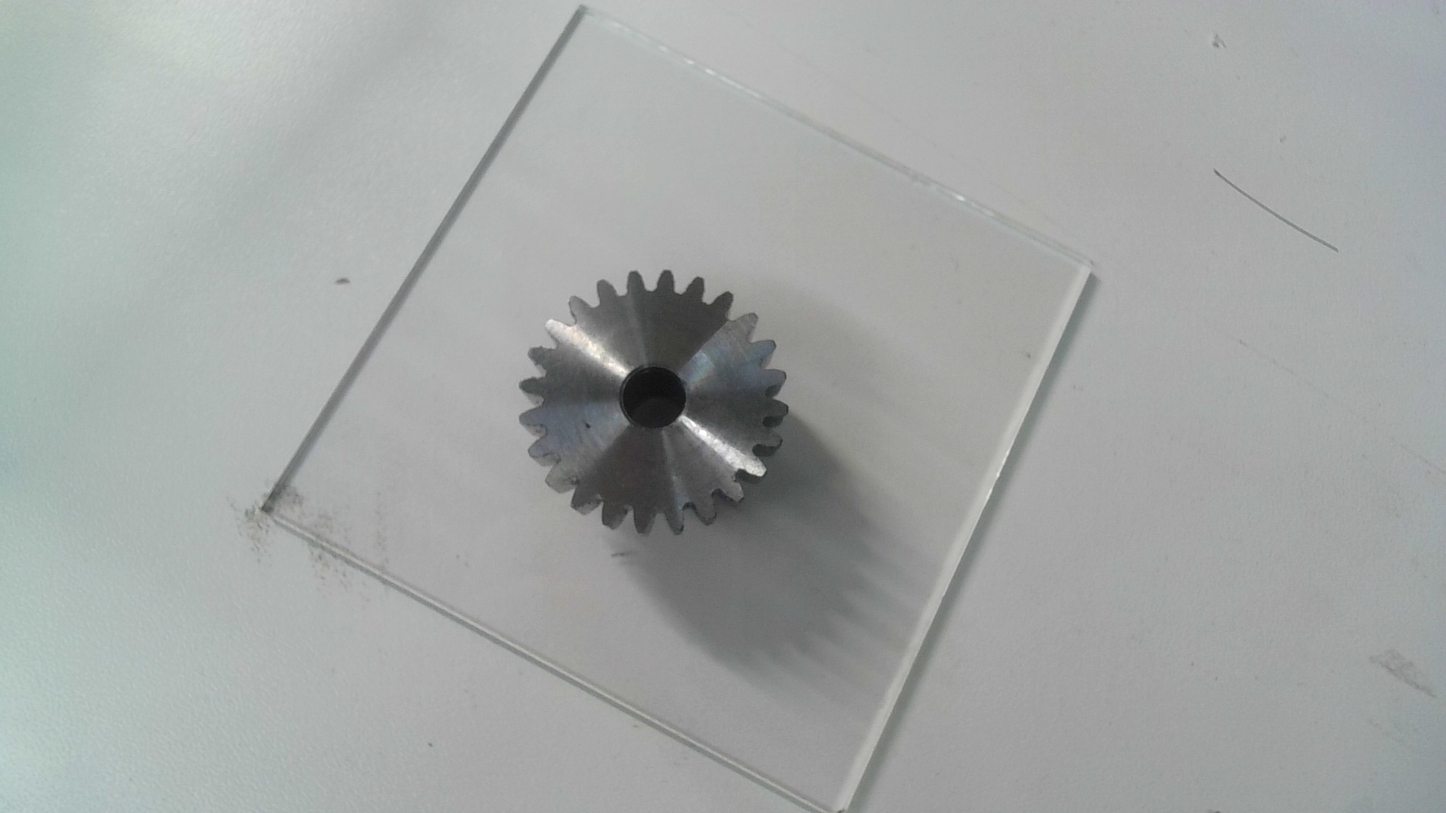gear: (516, 265, 794, 545)
